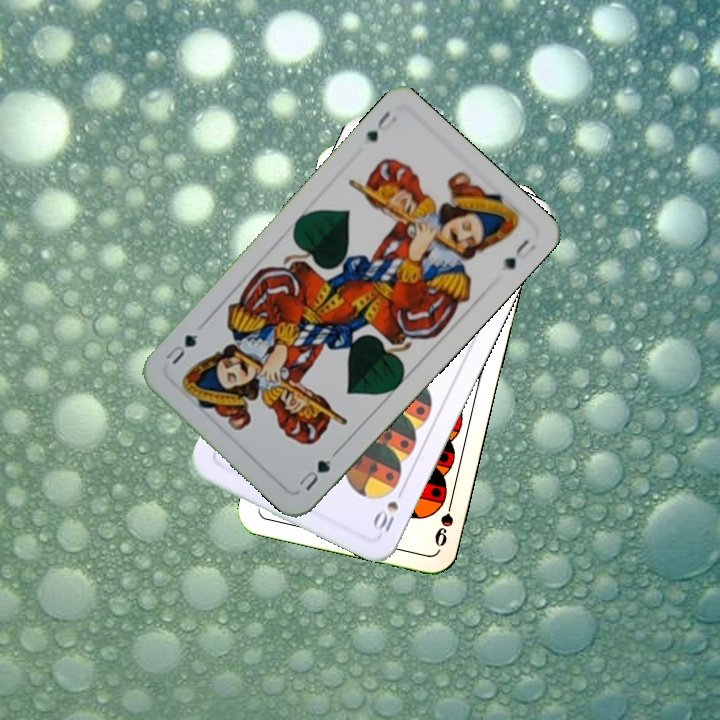GU: (295, 455, 334, 494), (362, 106, 400, 145)
S10: (369, 482, 408, 537)
S9: (430, 492, 457, 550)
